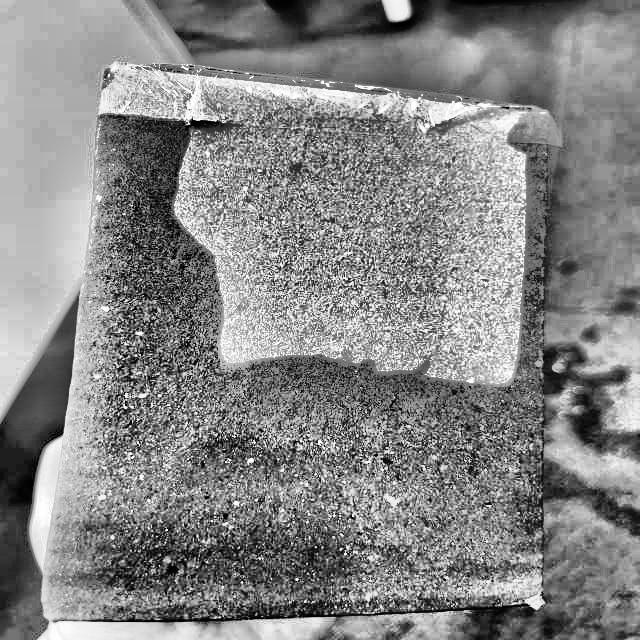box: (36, 58, 559, 610)
wet: (54, 361, 560, 614), (50, 100, 233, 352), (499, 108, 559, 356)
